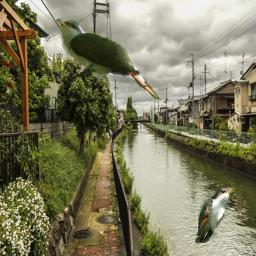Cuckoo: (53, 18, 161, 100), (195, 187, 235, 243)
